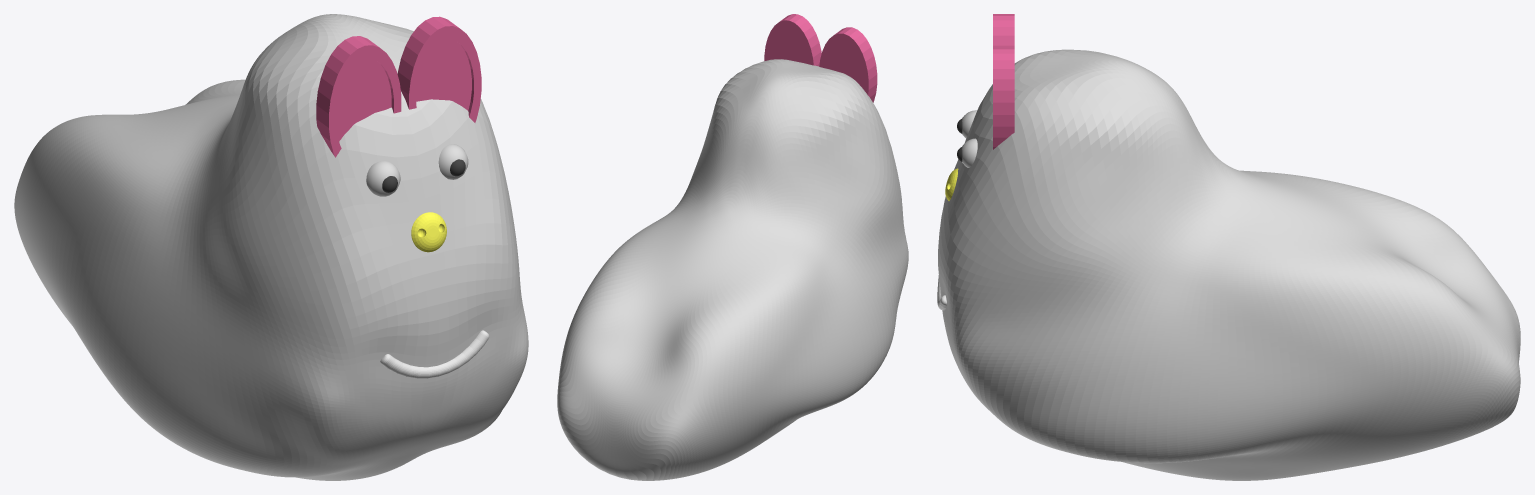
File: Hondy Ron.fbx
3 views of the same model, side by side, from view 1: azimuth 30°, elevation 25°; view 2: azimuth 150°, elevation 25°; view 3: azimuth 270°, elevation 25° (orthographic). The views are drawn at different scales.
Parts seen in each view (by area): view 1: BodyMain, EarS, Mouth, NOSE, EyeROut, EyeLOut; view 2: BodyMain, EarS; view 3: BodyMain, EarS.
Part boxes in pixels (<box>): BodyMain: <box>14,14,528,480</box>; EarS: <box>316,16,481,157</box>; Mouth: <box>380,330,489,378</box>; NOSE: <box>411,212,446,252</box>; EyeROut: <box>366,161,400,196</box>; EyeLOut: <box>438,144,468,179</box>; BodyMain: <box>557,59,908,480</box>; EarS: <box>764,14,877,102</box>; BodyMain: <box>938,49,1520,480</box>; EarS: <box>993,14,1014,149</box>.
Size of the model in its own units: 220 by 341 by 408.
